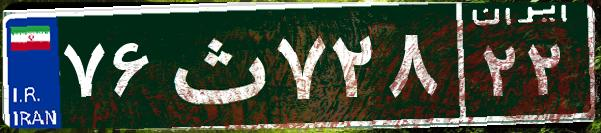2: (330, 28, 385, 110), (475, 38, 525, 113), (525, 38, 570, 115)
6: (110, 28, 158, 105)
7: (273, 28, 330, 110), (57, 26, 110, 107)
8: (385, 28, 445, 110)
ث: (158, 15, 273, 115)
